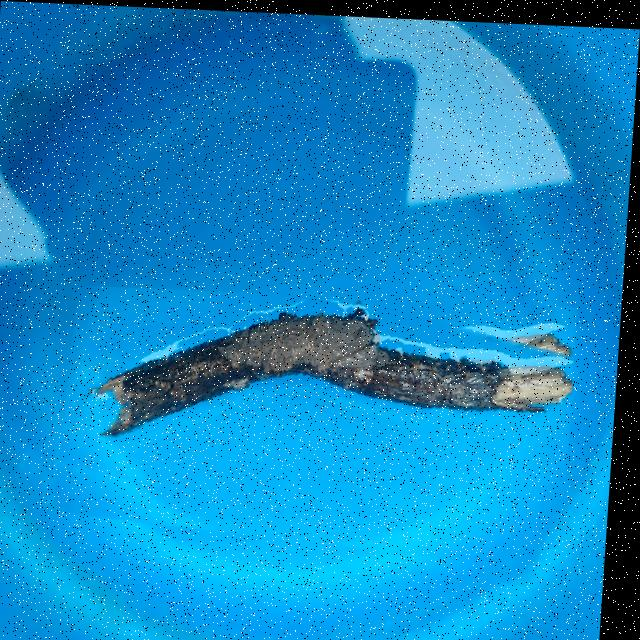litter: (56, 283, 580, 566)
